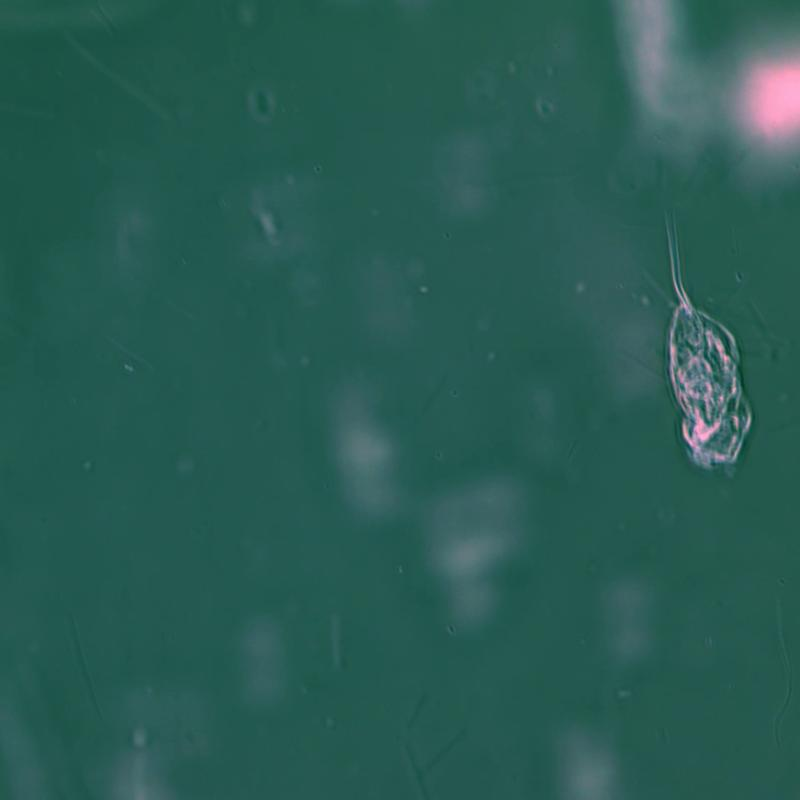depth:0: (622, 195, 769, 498)
